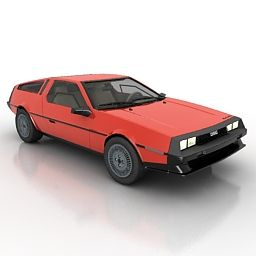car: (6, 72, 248, 187)
